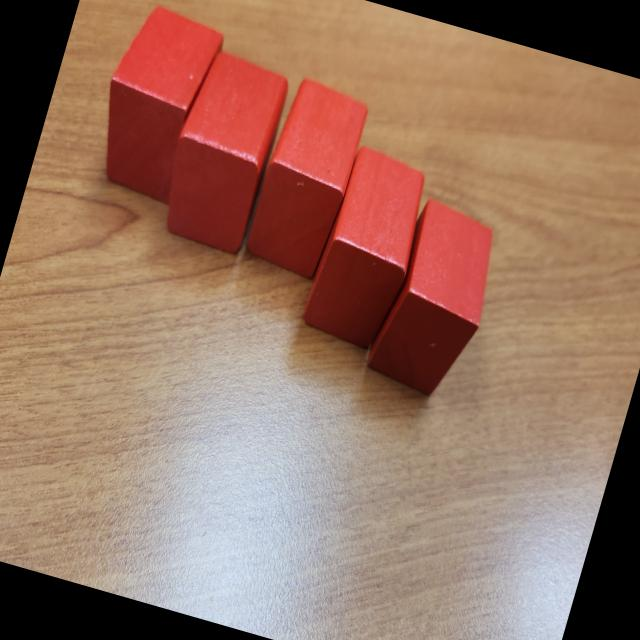red: (361, 194, 508, 406), (80, 0, 228, 207), (150, 46, 294, 258), (297, 143, 437, 354), (236, 74, 374, 282)
